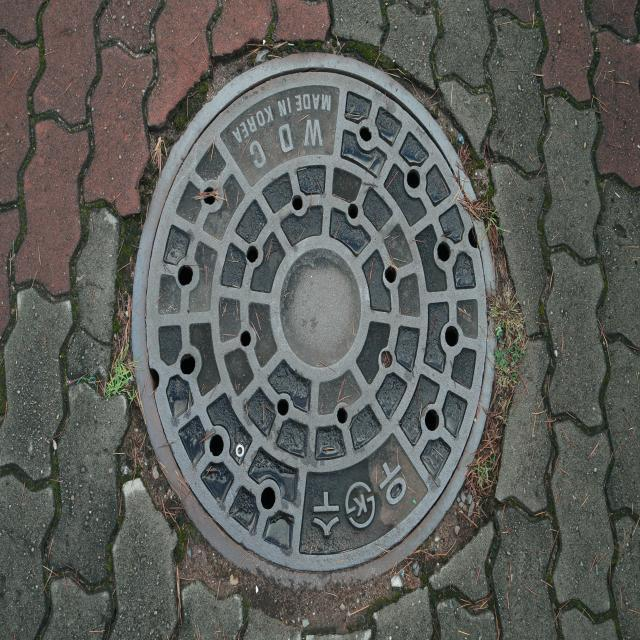manhole: (132, 54, 494, 584)
